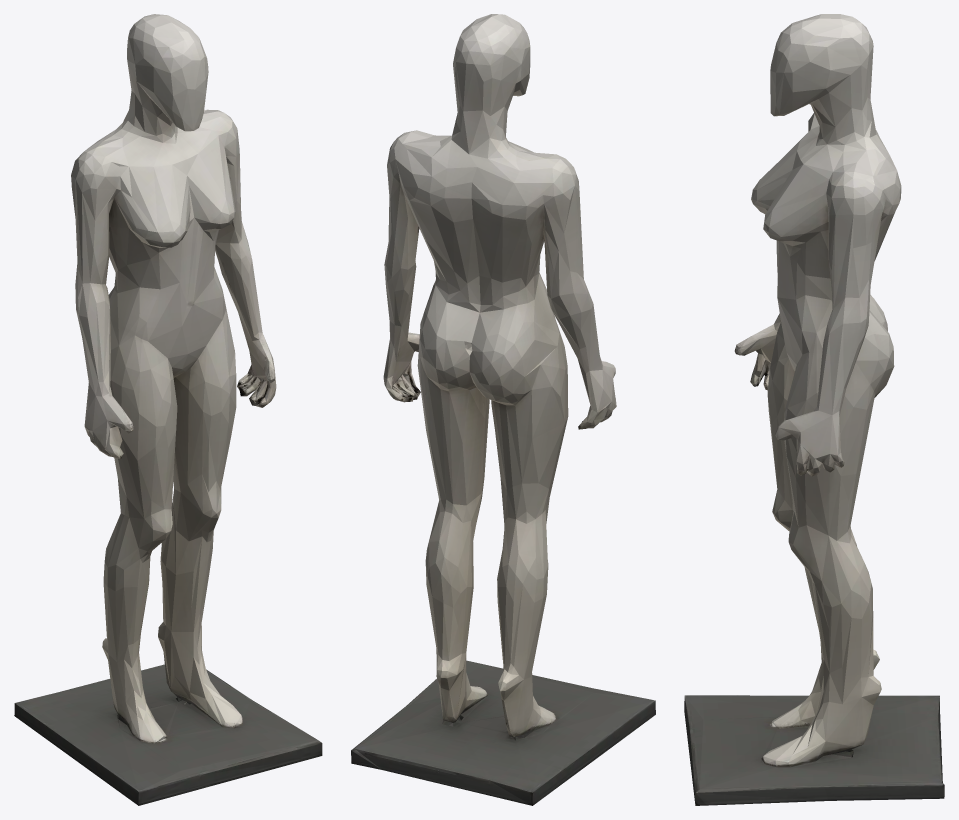
The picture shows the model from 3 angles, left to right: view 1: azimuth 30°, elevation 25°; view 2: azimuth 150°, elevation 25°; view 3: azimuth 270°, elevation 25°; orthographic projection. The views are drawn at different scales.
Parts seen in each view (by area): view 1: geometry_0; view 2: geometry_0; view 3: geometry_0.
Part boxes in pixels (<box>): geometry_0: <box>14,14,322,805</box>; geometry_0: <box>351,14,655,805</box>; geometry_0: <box>684,14,944,805</box>.
Bounding box in the file's own units: 0.2893 × 1 × 0.3188.
1 material, 1 textured.
